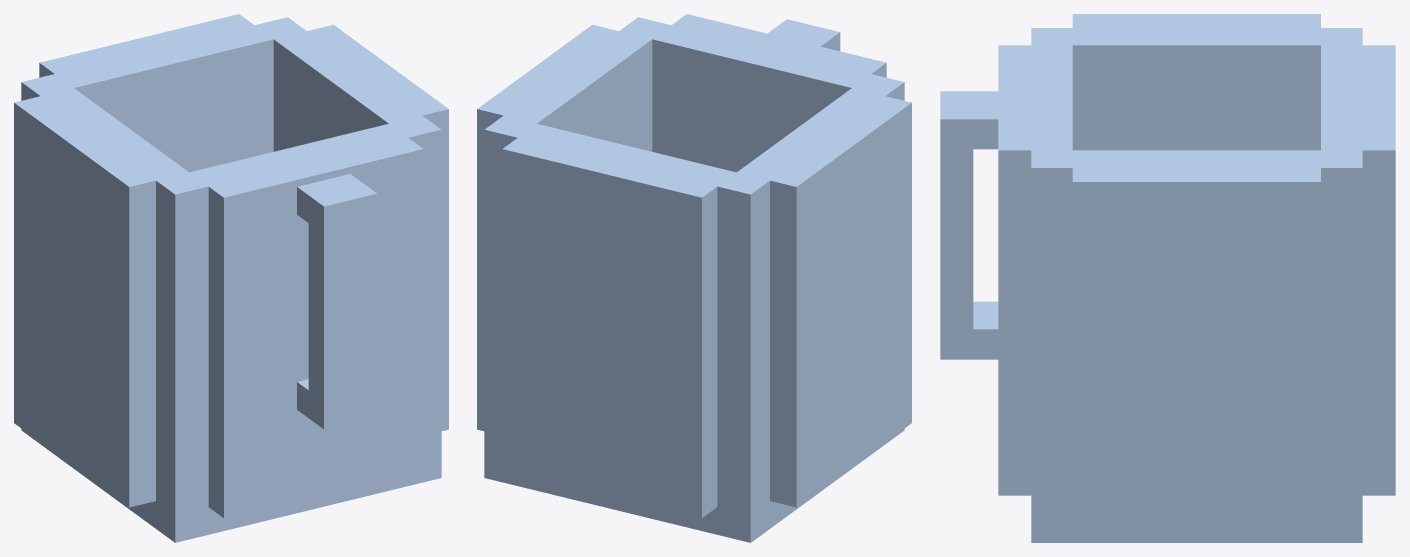
The model's file is mug_00.obj.
3 renders of one model, left to right at view 1: azimuth 30°, elevation 25°; view 2: azimuth 150°, elevation 25°; view 3: azimuth 270°, elevation 25°, orthographic. The views are drawn at different scales.
Visible parts, largest first — view 1: cube; view 2: cube; view 3: cube.
Boxes of the visible parts, x1,y1,x2,y2 form: cube: (14, 14, 448, 542); cube: (477, 14, 911, 542); cube: (940, 14, 1395, 542).
Size of the model in its own units: 0.6 by 0.625 by 0.6875.
